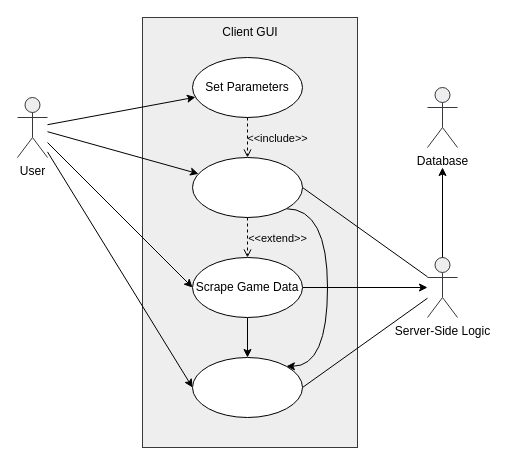
Some shapes in this 507 by 465 pixel diagram are drawn without their labels. Each missing label, with the centre of its shape:
Select Game: pixel 247 187
Simulate Game: pixel 247 387
